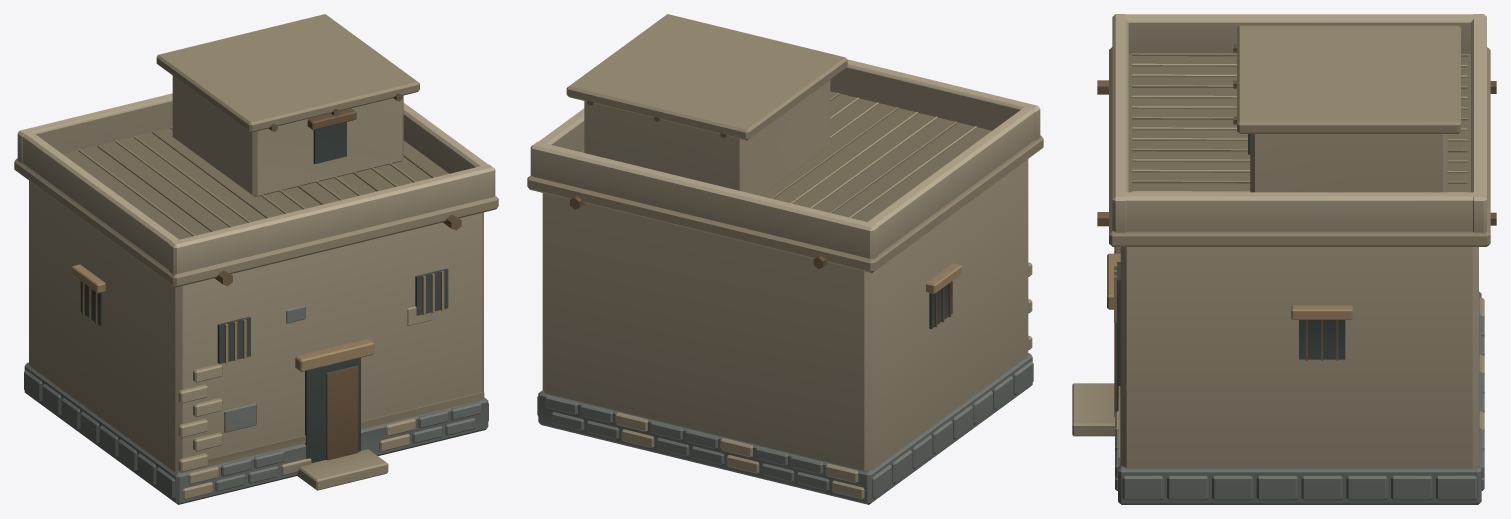
File: house_large.glb
The picture shows the model from 3 angles, left to right: view 1: azimuth 30°, elevation 25°; view 2: azimuth 150°, elevation 25°; view 3: azimuth 270°, elevation 25°; orthographic projection. The views are drawn at different scales.
Parts seen in each view (by area): view 1: house_large.001; view 2: house_large.001; view 3: house_large.001.
Boxes of the visible parts, x1=… form: house_large.001: x1=14, y1=14, x2=498, y2=504; house_large.001: x1=527, y1=14, x2=1043, y2=504; house_large.001: x1=1072, y1=14, x2=1496, y2=504.
Bounding box in the file's own units: 4.96 × 4.59 × 4.74.
